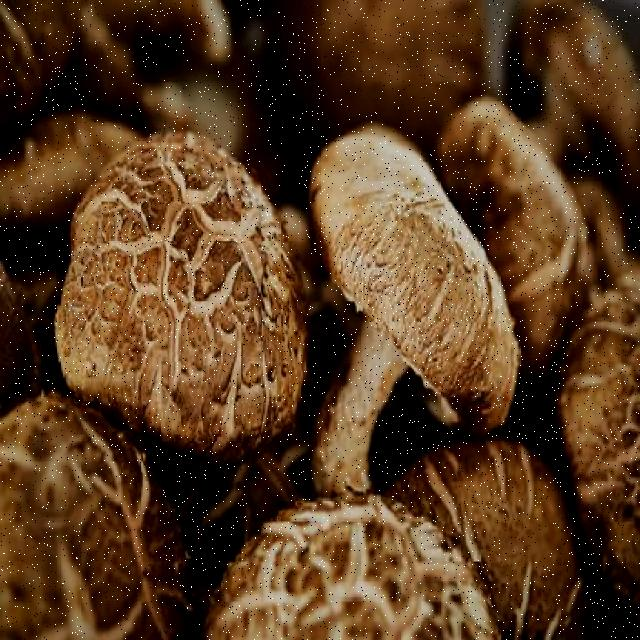Mushroom: (270, 84, 536, 536)
